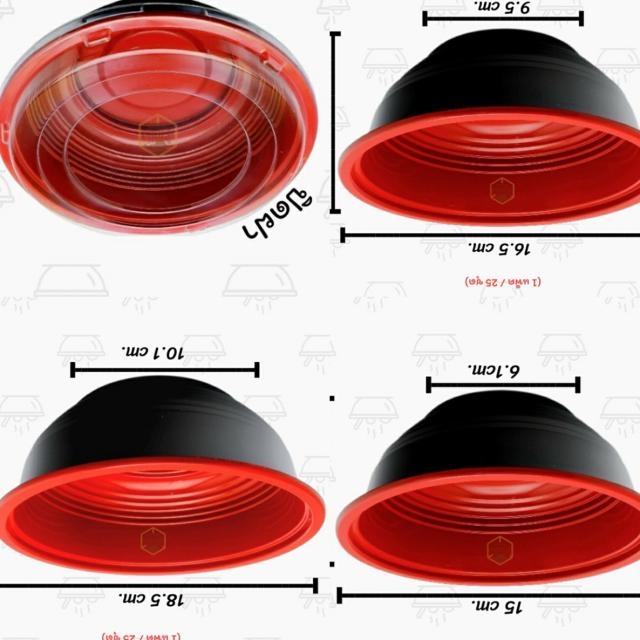plastik: (0, 0, 318, 235), (0, 376, 324, 575), (336, 391, 640, 585), (341, 30, 640, 225)
